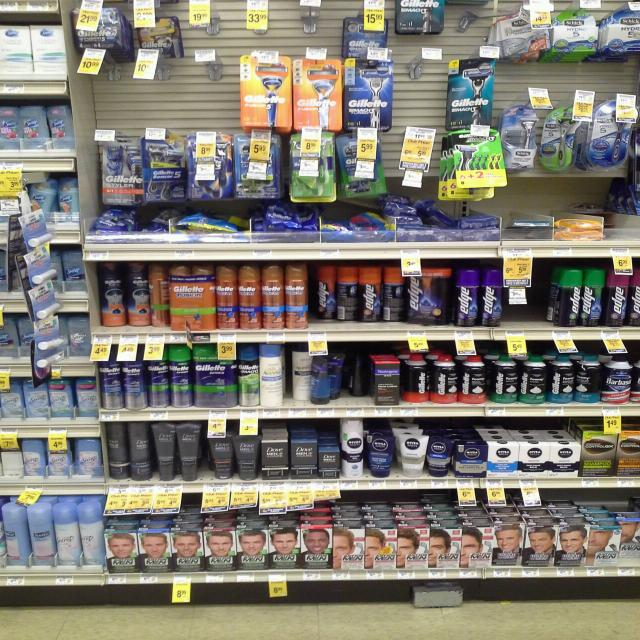unorganised: (307, 261, 455, 327), (91, 261, 170, 333), (283, 344, 372, 407), (24, 176, 82, 226), (41, 103, 76, 153), (574, 352, 602, 408)
